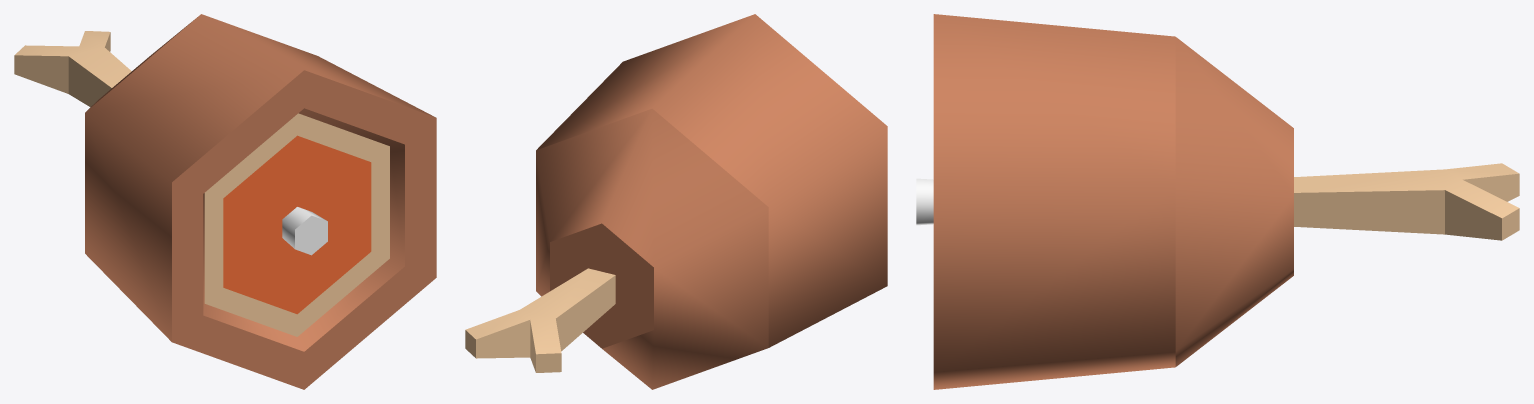
Rendered from ham.glb.
The picture shows the model from 3 angles, left to right: view 1: azimuth 30°, elevation 25°; view 2: azimuth 150°, elevation 25°; view 3: azimuth 270°, elevation 25°; orthographic projection. The views are drawn at different scales.
Parts seen in each view (by area): view 1: wholeHam; view 2: wholeHam; view 3: wholeHam.
Boxes of the visible parts, x1,y1,x2,y2 form: wholeHam: [14, 14, 436, 389]; wholeHam: [465, 14, 887, 389]; wholeHam: [916, 14, 1519, 389].
Size of the model in its own units: 0.3809 by 0.4399 by 0.6397.
